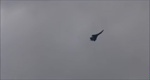maybay_muctieu: (89, 27, 107, 42)
